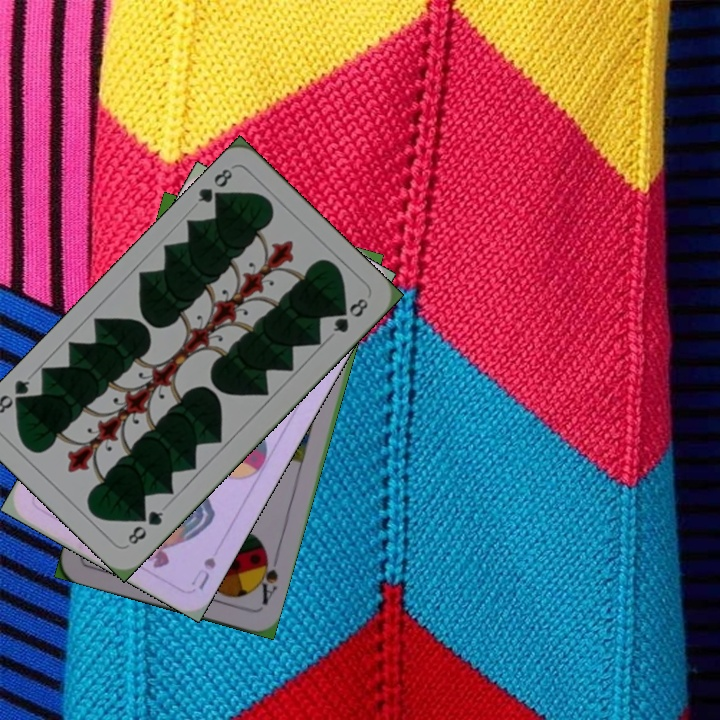G8: (193, 164, 235, 209), (123, 506, 166, 548)
SA: (251, 549, 281, 608)
SU: (187, 552, 219, 593)
